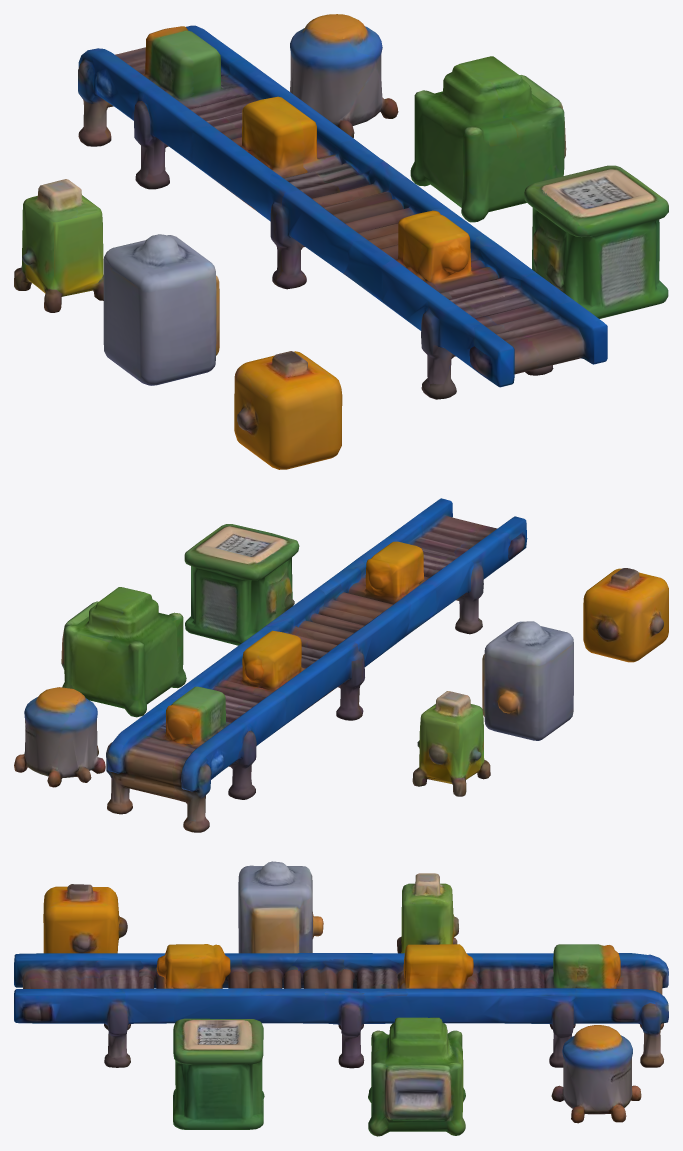
Rendered from assembly_line_conveyor.glb.
The picture shows the model from 3 angles, top to bottom: view 1: azimuth 30°, elevation 25°; view 2: azimuth 150°, elevation 25°; view 3: azimuth 270°, elevation 25°; orthographic projection. The views are drawn at different scales.
Visible parts, largest first — view 1: tripo_node_d3c47505-5034-4e06-affa-1653a538693f; view 2: tripo_node_d3c47505-5034-4e06-affa-1653a538693f; view 3: tripo_node_d3c47505-5034-4e06-affa-1653a538693f.
Part boxes in pixels (x1,y1,x2,y2): tripo_node_d3c47505-5034-4e06-affa-1653a538693f: [14, 14, 668, 469]; tripo_node_d3c47505-5034-4e06-affa-1653a538693f: [14, 498, 668, 832]; tripo_node_d3c47505-5034-4e06-affa-1653a538693f: [14, 861, 668, 1136].
Size of the model in its own units: 0.6819 by 0.1594 by 0.9489.
1 material, 1 textured.
